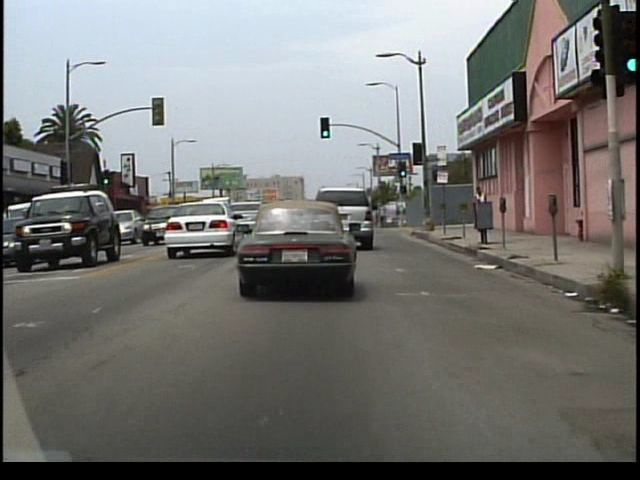person: (472, 183, 492, 233)
